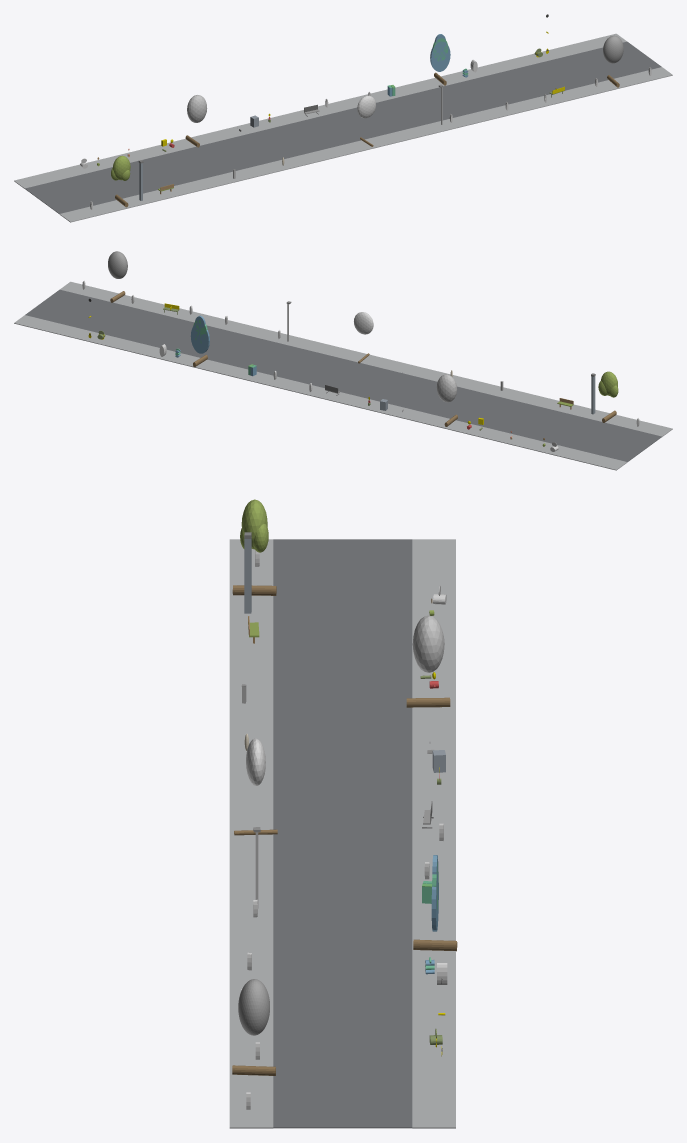
The picture shows the model from 3 angles, top to bottom: view 1: azimuth 30°, elevation 25°; view 2: azimuth 150°, elevation 25°; view 3: azimuth 270°, elevation 25°; orthographic projection. The views are drawn at different scales.
Parts seen in each view (by area): view 1: road_slab, sidewalk_left, sidewalk_right, inst_0015, inst_0016, inst_0013, inst_0012, inst_0014; view 2: road_slab, sidewalk_right, sidewalk_left, inst_0015, inst_0013, inst_0016, inst_0012, inst_0014; view 3: road_slab, sidewalk_left, sidewalk_right, inst_0013, inst_0016, inst_0012, inst_0015, inst_0014.
Part boxes in pixels (x1,y1,x2,y2): road_slab: (25, 41, 661, 213); sidewalk_left: (59, 67, 672, 222); sidewalk_right: (14, 33, 626, 188); inst_0015: (430, 34, 450, 85); inst_0016: (603, 35, 623, 87); inst_0013: (185, 95, 207, 147); inst_0012: (111, 155, 130, 207); inst_0014: (357, 95, 375, 146); road_slab: (25, 289, 661, 462); sidewalk_right: (14, 315, 627, 470); sidewalk_left: (60, 281, 672, 436); inst_0015: (190, 315, 209, 367); inst_0013: (436, 374, 457, 426); inst_0016: (108, 251, 127, 302); inst_0012: (598, 371, 618, 422); inst_0014: (354, 312, 373, 363); road_slab: (273, 539, 412, 1128); sidewalk_left: (229, 539, 273, 1128); sidewalk_right: (412, 539, 455, 1128); inst_0013: (406, 615, 450, 707); inst_0016: (232, 979, 275, 1075); inst_0012: (232, 499, 276, 595); inst_0015: (413, 855, 457, 951); inst_0014: (234, 738, 277, 835).
Bounding box in the file's own units: 80 × 6.08 × 13.08.
